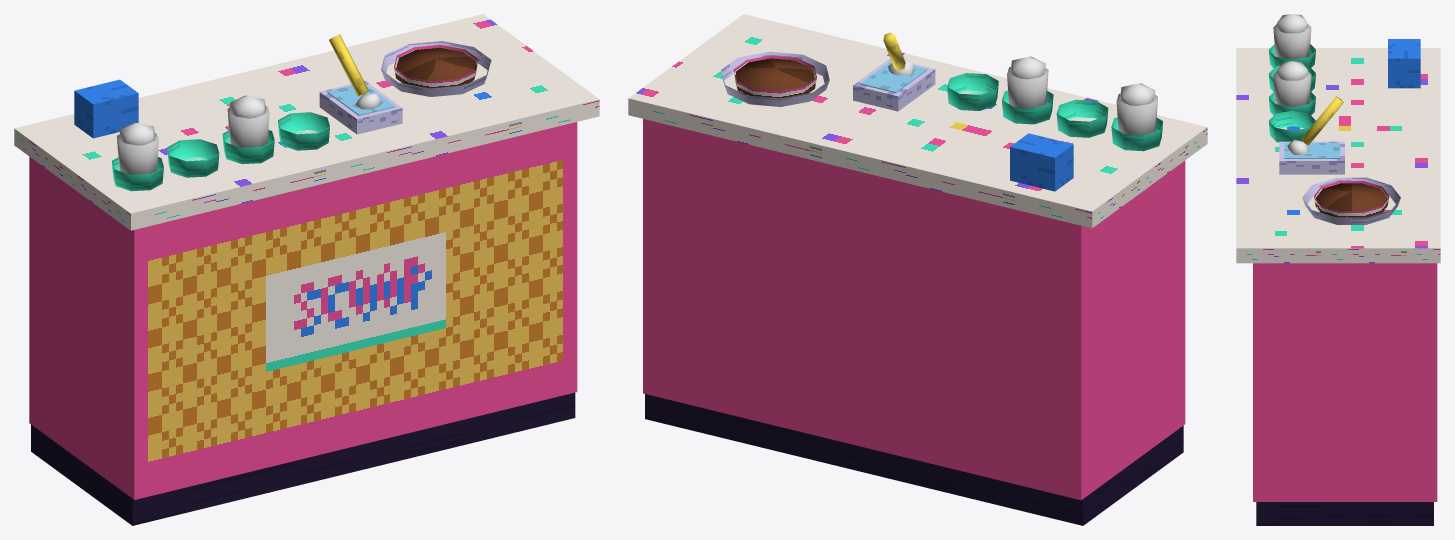
The model's file is Scoop Counter.fbx.
The picture shows the model from 3 angles, left to right: view 1: azimuth 30°, elevation 25°; view 2: azimuth 150°, elevation 25°; view 3: azimuth 270°, elevation 25°; orthographic projection. The views are drawn at different scales.
Parts seen in each view (by area): view 1: Scoop Counter counter cabinet, Scoop Counter counter top, Scoop Counter counter plinth, Scoop Counter counter napkins, Scoop Counter counter tub cream, Scoop Counter dipper well, Scoop Counter tub well rim, Scoop Counter pint holder 2, Scoop Counter pint holder 4, Scoop Counter counter pint 3 cup, Scoop Counter counter pint 1 cup, Scoop Counter counter tub.001 (+6 smaller); view 2: Scoop Counter counter cabinet, Scoop Counter counter top, Scoop Counter counter plinth, Scoop Counter counter napkins, Scoop Counter counter tub cream, Scoop Counter dipper well, Scoop Counter tub well rim, Scoop Counter pint holder 4, Scoop Counter pint holder 2, Scoop Counter counter pint 3 cup, Scoop Counter counter pint 1 cup, Scoop Counter counter tub.001 (+5 smaller); view 3: Scoop Counter counter cabinet, Scoop Counter counter top, Scoop Counter counter plinth, Scoop Counter counter napkins, Scoop Counter counter tub cream, Scoop Counter tub well rim, Scoop Counter dipper well, Scoop Counter pint holder 4, Scoop Counter counter pint 3 cup, Scoop Counter counter pint 1 cup, Scoop Counter counter tub.001, Scoop Counter dipper water (+7 smaller).
Boxes of the visible parts, box(x1,y1,x2,y2) form: Scoop Counter counter cabinet: box(29, 122, 577, 499); Scoop Counter counter top: box(14, 14, 599, 230); Scoop Counter counter plinth: box(31, 392, 575, 525); Scoop Counter counter napkins: box(74, 79, 138, 138); Scoop Counter counter tub cream: box(396, 47, 475, 81); Scoop Counter dipper well: box(319, 80, 402, 134); Scoop Counter tub well rim: box(381, 41, 491, 96); Scoop Counter pint holder 2: box(167, 139, 219, 177); Scoop Counter pint holder 4: box(278, 112, 329, 150); Scoop Counter counter pint 3 cup: box(227, 106, 269, 147); Scoop Counter counter pint 1 cup: box(117, 133, 158, 174); Scoop Counter counter tub.001: box(394, 45, 478, 88); Scoop Counter counter cabinet: box(643, 119, 1185, 500); Scoop Counter counter top: box(628, 14, 1207, 228); Scoop Counter counter plinth: box(645, 394, 1183, 525); Scoop Counter counter napkins: box(1010, 133, 1073, 191); Scoop Counter counter tub cream: box(736, 58, 814, 91); Scoop Counter dipper well: box(853, 58, 935, 111); Scoop Counter tub well rim: box(720, 51, 829, 106); Scoop Counter pint holder 4: box(947, 73, 998, 110); Scoop Counter pint holder 2: box(1056, 99, 1108, 137); Scoop Counter counter pint 3 cup: box(1007, 67, 1048, 108); Scoop Counter counter pint 1 cup: box(1116, 93, 1157, 134); Scoop Counter counter tub.001: box(733, 55, 816, 98); Scoop Counter counter cabinet: box(1253, 263, 1437, 501); Scoop Counter counter top: box(1236, 48, 1440, 263); Scoop Counter counter plinth: box(1256, 502, 1433, 525); Scoop Counter counter napkins: box(1388, 39, 1420, 88); Scoop Counter counter tub cream: box(1316, 183, 1387, 211); Scoop Counter tub well rim: box(1302, 177, 1400, 224); Scoop Counter dipper well: box(1279, 141, 1344, 174); Scoop Counter pint holder 4: box(1268, 110, 1315, 142); Scoop Counter counter pint 3 cup: box(1273, 71, 1311, 106); Scoop Counter counter pint 1 cup: box(1273, 24, 1311, 59); Scoop Counter counter tub.001: box(1314, 181, 1389, 217); Scoop Counter dipper water: box(1284, 143, 1339, 158).
Bounding box in the file's own units: 1.44 × 1.16 × 0.62.
